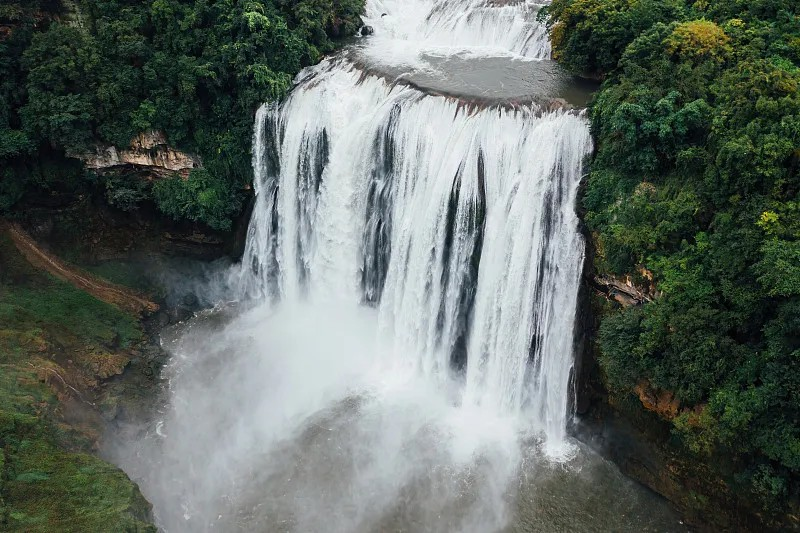Huangguoshu: (236, 1, 592, 439)
